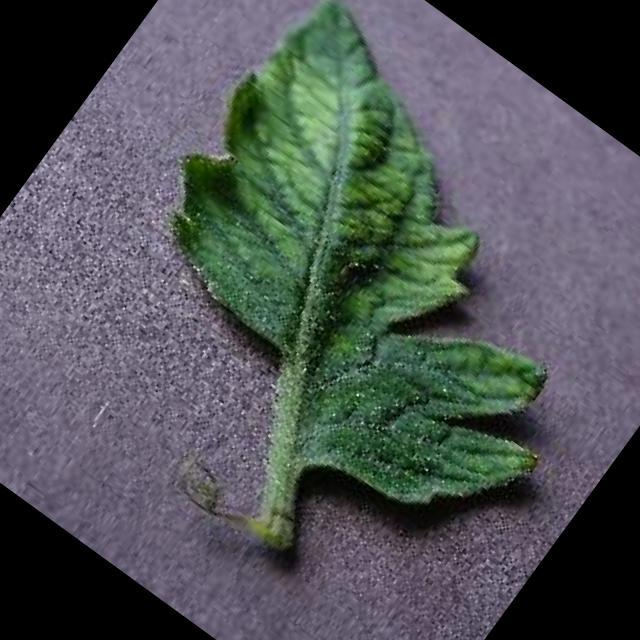Tomato mosaic virus leaf: (82, 0, 640, 566)
